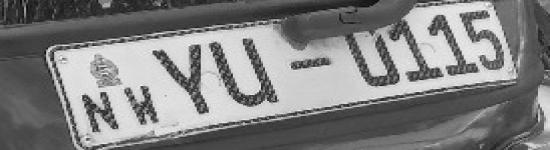-: (290, 56, 334, 71)
0: (343, 28, 401, 90)
1: (381, 10, 449, 89), (417, 7, 484, 83)
5: (453, 5, 514, 76)
N: (79, 90, 120, 134)
U: (208, 37, 284, 107)
W: (123, 82, 168, 127)
Y: (155, 43, 209, 116)
